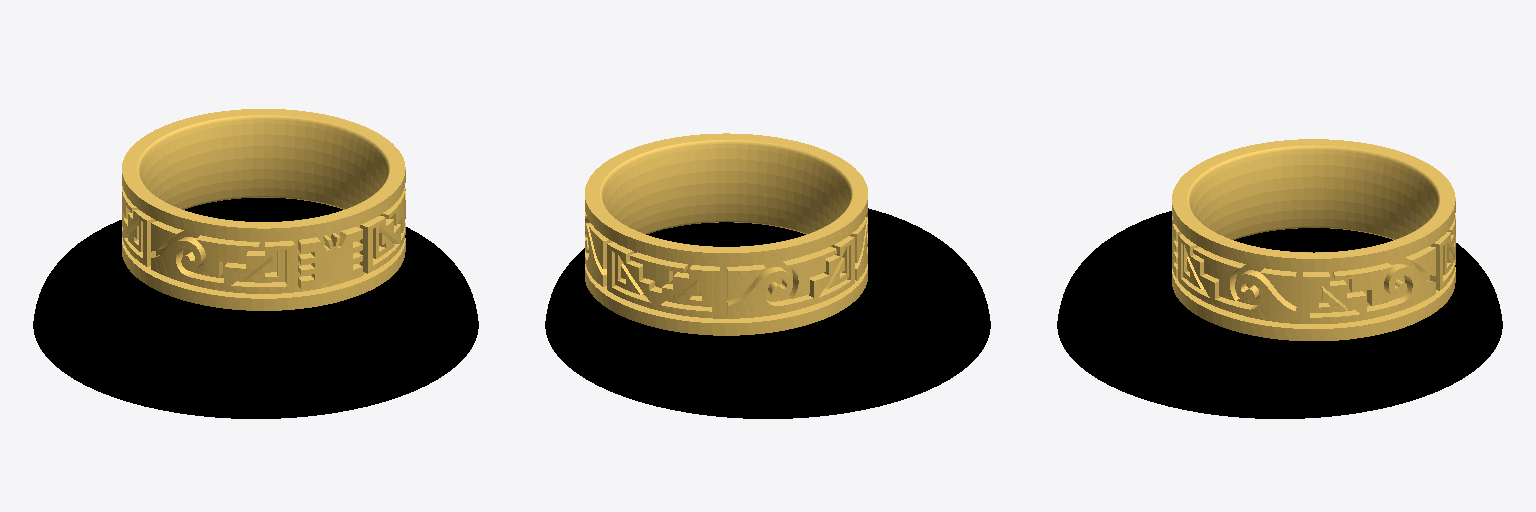
The model's file is aztec-ring-1.obj.
3 renders of one model, left to right at view 1: azimuth 30°, elevation 25°; view 2: azimuth 150°, elevation 25°; view 3: azimuth 270°, elevation 25°, orthographic.
Parts seen in each view (by area): view 1: Part_2, Part_1; view 2: Part_2, Part_1; view 3: Part_1, Part_2.
Boxes of the visible parts, x1=… form: Part_2: x1=33, y1=198, x2=478, y2=418; Part_1: x1=122, y1=109, x2=405, y2=310; Part_2: x1=545, y1=208, x2=990, y2=418; Part_1: x1=585, y1=133, x2=867, y2=335; Part_1: x1=1172, y1=139, x2=1455, y2=340; Part_2: x1=1057, y1=211, x2=1502, y2=418.
Bounding box in the file's own units: 0.0368 × 0.0126 × 0.0368.